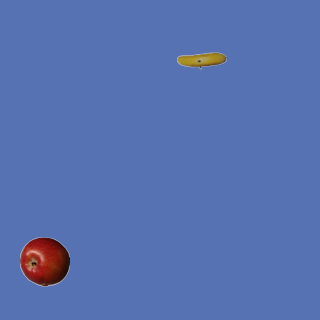Apple Braeburn: (19, 236, 69, 286)
Banana: (176, 35, 226, 85)
